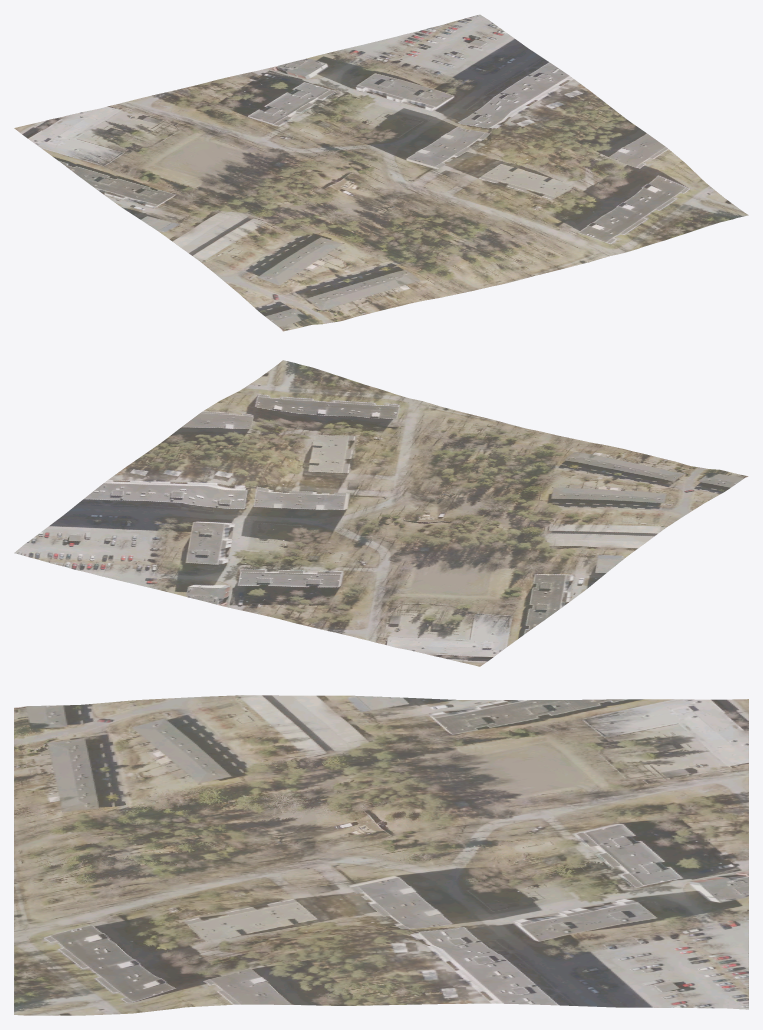
File: CM_Terrain_24491687_6814879.fbx
3 renders of one model, top to bottom at view 1: azimuth 30°, elevation 25°; view 2: azimuth 150°, elevation 25°; view 3: azimuth 270°, elevation 25°, orthographic. The views are drawn at different scales.
Parts seen in each view (by area): view 1: CM_Terrain_24491687_6814879_LOD0; view 2: CM_Terrain_24491687_6814879_LOD0; view 3: CM_Terrain_24491687_6814879_LOD0.
Boxes of the visible parts, bbox=[...] form: CM_Terrain_24491687_6814879_LOD0: bbox=[14, 14, 748, 331]; CM_Terrain_24491687_6814879_LOD0: bbox=[14, 360, 748, 666]; CM_Terrain_24491687_6814879_LOD0: bbox=[14, 695, 748, 1015].
Size of what is drawn, in the model's own units: 205 by 8.25 by 205.
